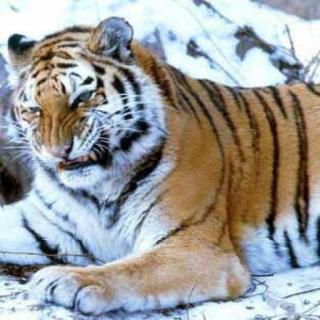Tiger: (7, 19, 320, 320)
